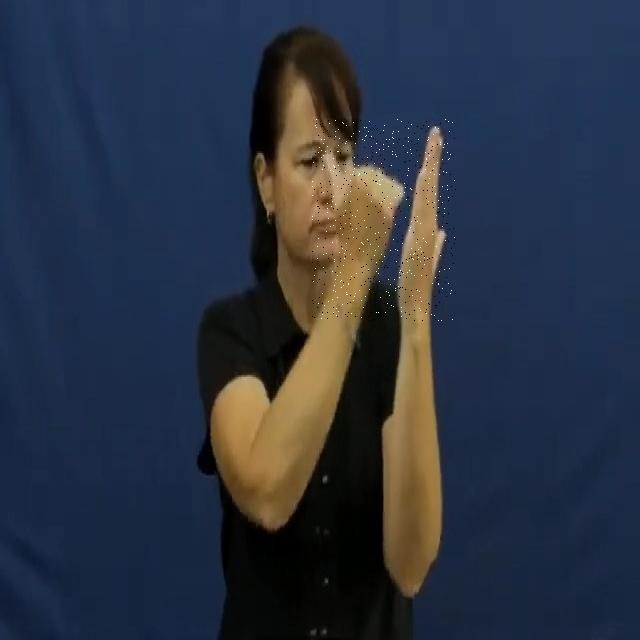menu: (312, 120, 456, 322)
